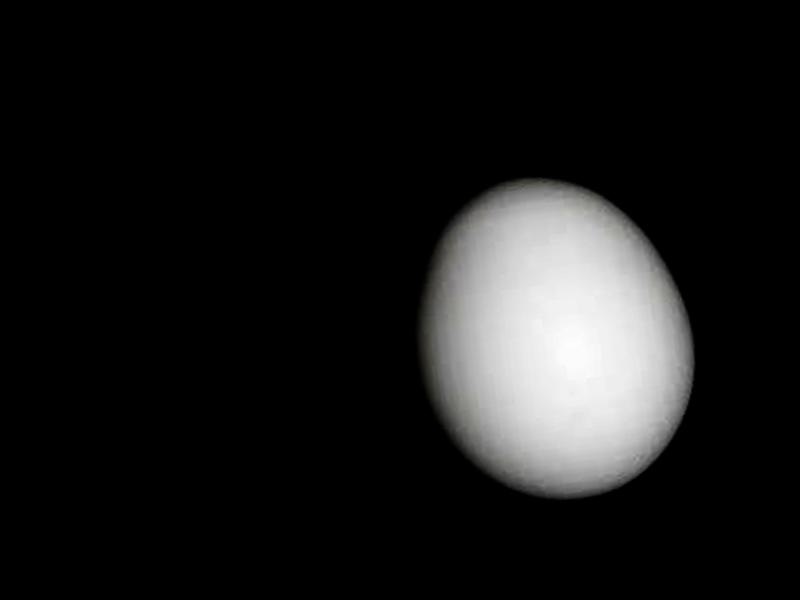Eggs: (402, 162, 710, 518)
